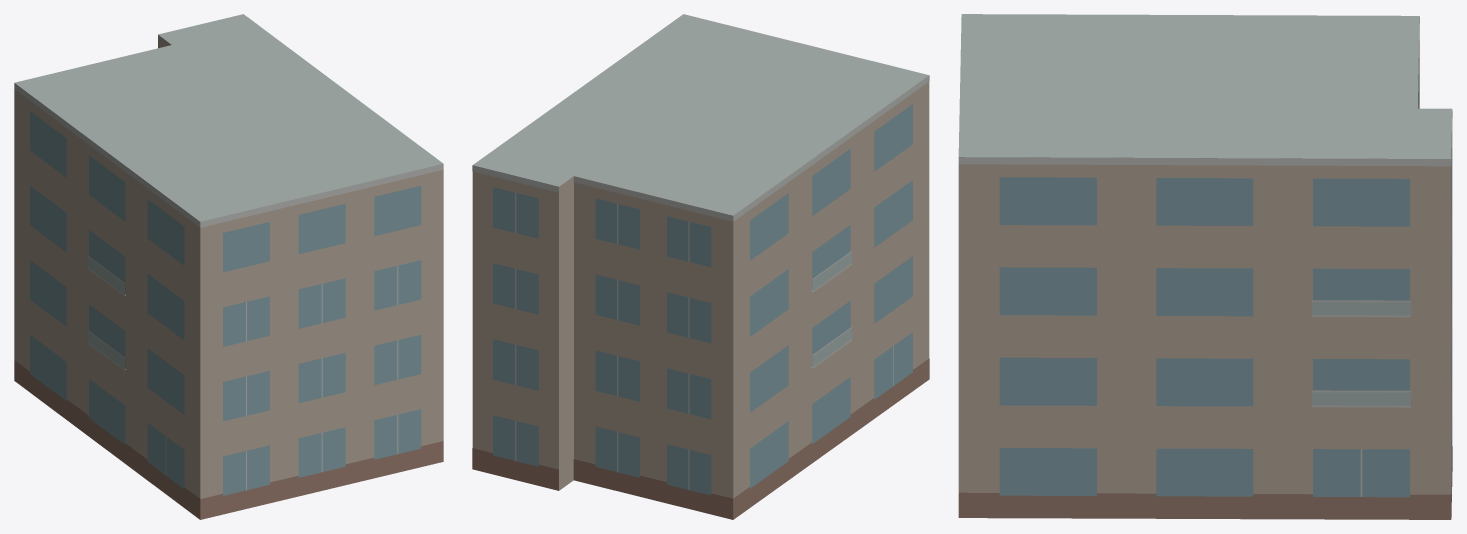
File: residential-1b8f7c6c-b129-4717-a4f7-b133feae1ec2.glb
The picture shows the model from 3 angles, left to right: view 1: azimuth 30°, elevation 25°; view 2: azimuth 150°, elevation 25°; view 3: azimuth 270°, elevation 25°; orthographic projection. The views are drawn at different scales.
Parts seen in each view (by area): view 1: residential-1b8f7c6c-b129-4717-a4f7-b133feae1ec2.tmp; view 2: residential-1b8f7c6c-b129-4717-a4f7-b133feae1ec2.tmp; view 3: residential-1b8f7c6c-b129-4717-a4f7-b133feae1ec2.tmp.
Part boxes in pixels (left/top/right/bottom): residential-1b8f7c6c-b129-4717-a4f7-b133feae1ec2.tmp: left=14, top=14, right=443, bottom=519; residential-1b8f7c6c-b129-4717-a4f7-b133feae1ec2.tmp: left=472, top=14, right=929, bottom=519; residential-1b8f7c6c-b129-4717-a4f7-b133feae1ec2.tmp: left=958, top=14, right=1452, bottom=519.
Bounding box in the file's own units: 10.55 × 12.2 × 15.14.
